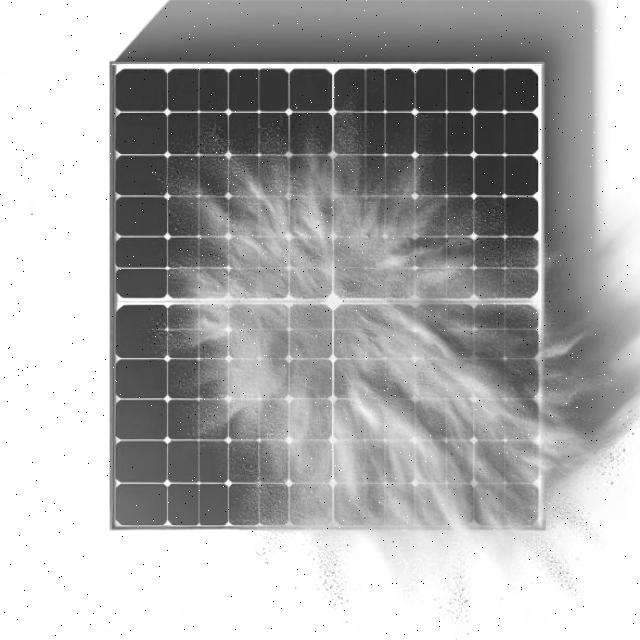Anomaly Solar Panel: (113, 67, 541, 529)
Surface Contaminant: (145, 97, 541, 531)
